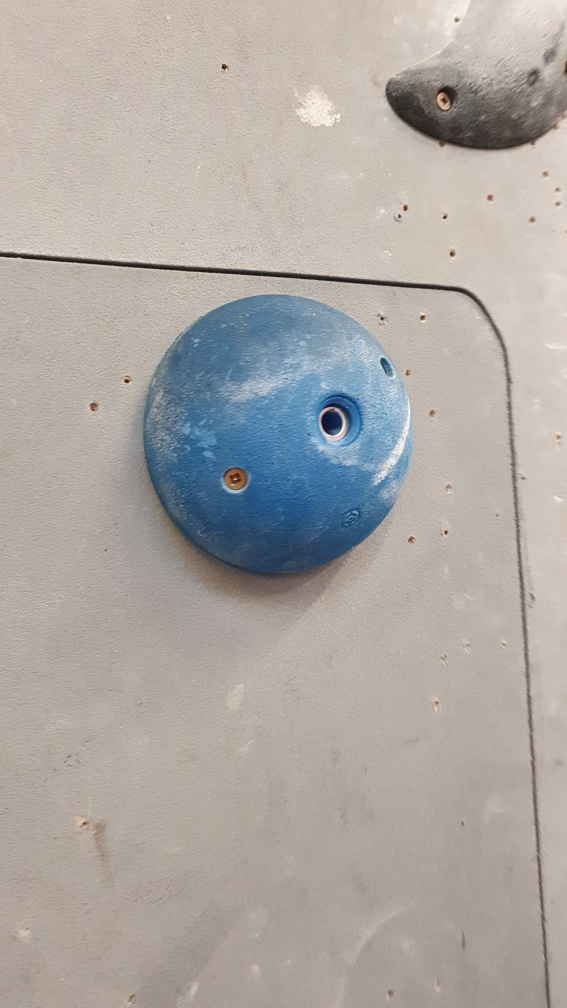Sloper: (138, 292, 417, 584)
